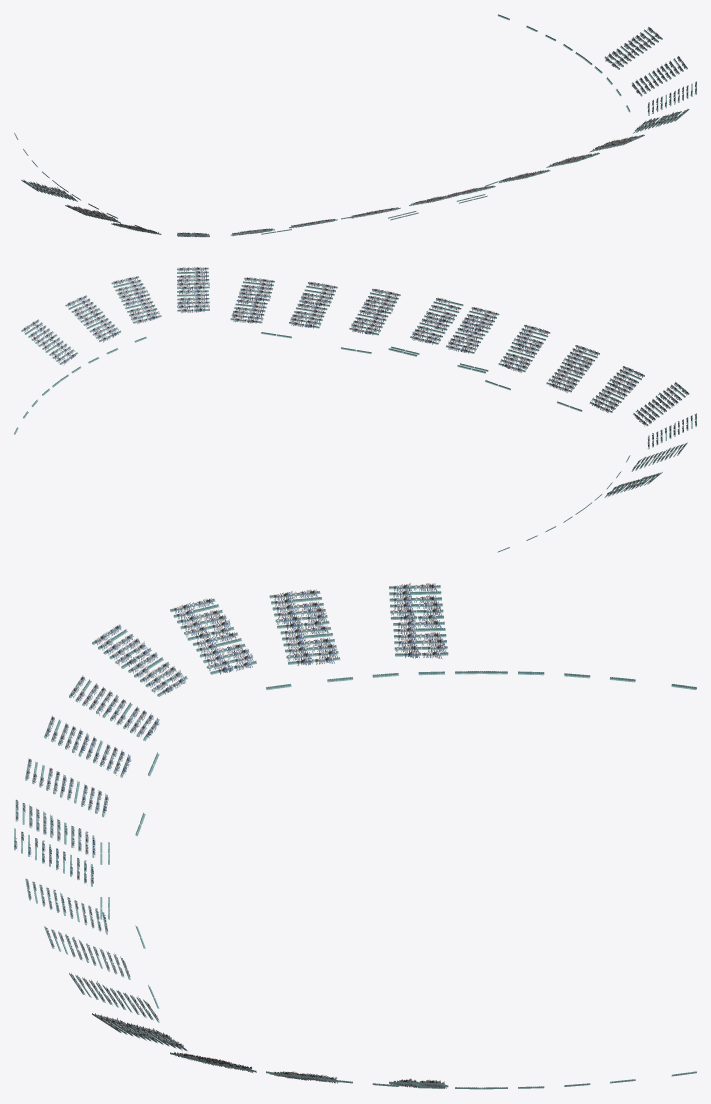
The model's file is audience_01.fbx.
The picture shows the model from 3 angles, top to bottom: view 1: azimuth 30°, elevation 25°; view 2: azimuth 150°, elevation 25°; view 3: azimuth 270°, elevation 25°; orthographic projection. The views are drawn at different scales.
Visible parts, largest first — view 1: audience; view 2: audience; view 3: audience.
Part boxes in pixels (x1,y1,x2,y2): audience: (14, 14, 696, 237); audience: (14, 267, 696, 552); audience: (14, 583, 696, 1089).
Bounding box in the file's own units: 202 × 11.29 × 117.
1 material, 1 textured.
